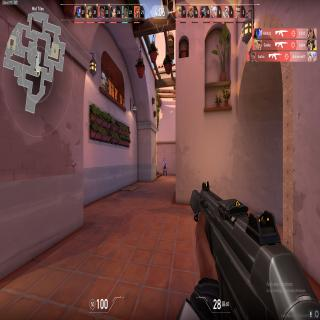ENEMY-BODY: (163, 156, 167, 178)
ENEMY-HEAD: (164, 158, 166, 160)
